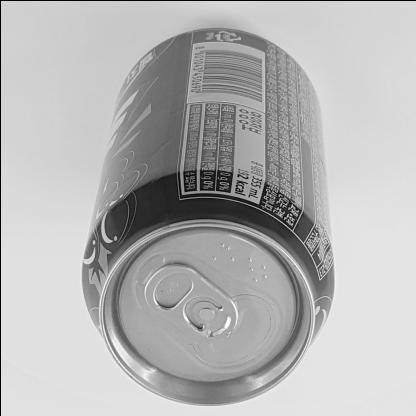alumunium_can: (70, 0, 338, 413)
